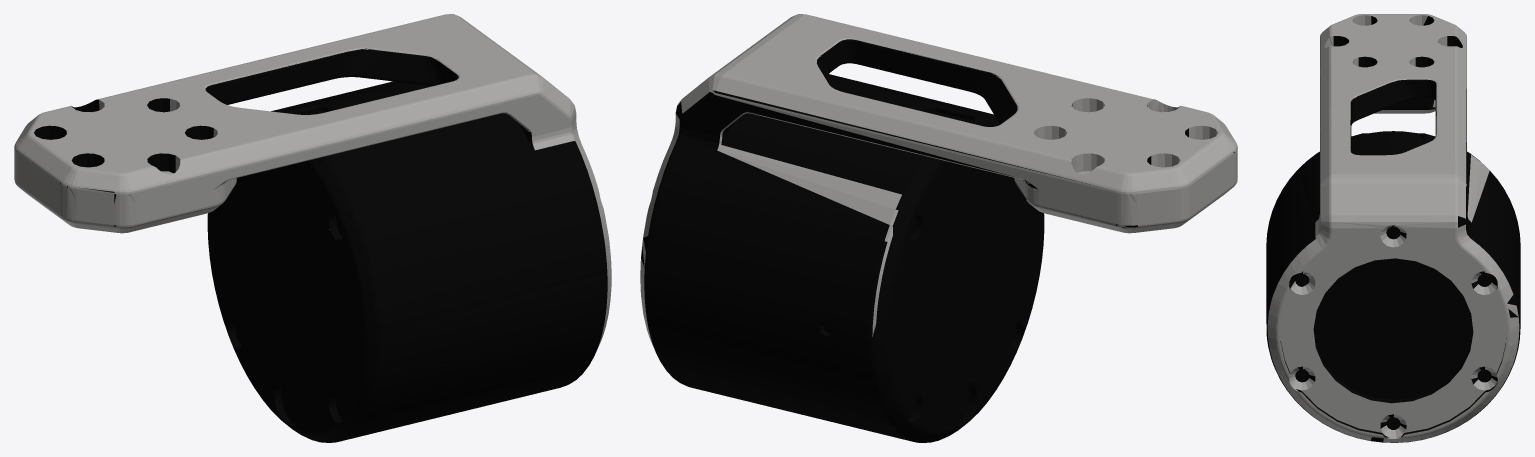
Rendered from left_arm_link5.usd.sapien.glb.
3 renders of one model, left to right at view 1: azimuth 30°, elevation 25°; view 2: azimuth 150°, elevation 25°; view 3: azimuth 270°, elevation 25°, orthographic. The views are drawn at different scales.
Visible parts, largest first — view 1: left_arm_link5; view 2: left_arm_link5; view 3: left_arm_link5.
Boxes of the visible parts, x1,y1,x2,y2 form: left_arm_link5: (14, 14, 611, 442); left_arm_link5: (640, 14, 1237, 442); left_arm_link5: (1266, 14, 1520, 442).
Size of the model in its own units: 0.1025 by 0.0672 by 0.0604.
Materials: 1 (1 with a texture image).
